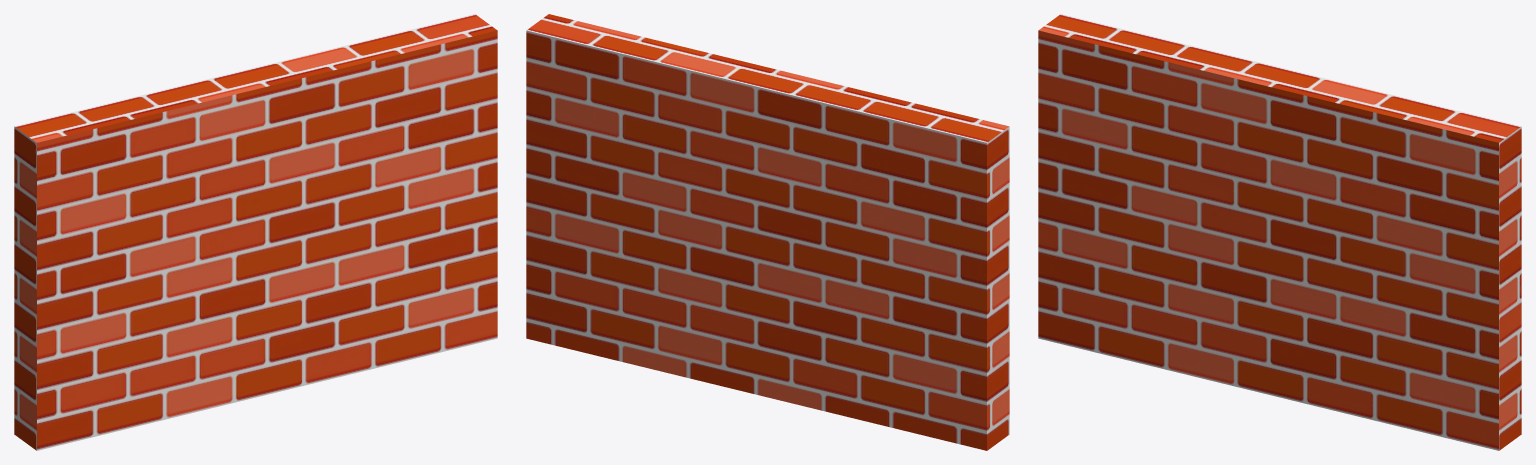
The model's file is Wall_break_model.FBX.
3 views of the same model, side by side, from view 1: azimuth 30°, elevation 25°; view 2: azimuth 150°, elevation 25°; view 3: azimuth 330°, elevation 25° (orthographic).
Parts seen in each view (by area): view 1: Object003, Object009, Object002, Box001, Object012, Object008, Object007, Object006, Object001, Object010, Object013, Object011; view 2: Object003, Object009, Object002, Box001, Object012, Object008, Object007, Object006, Object001, Object010, Object013, Object011; view 3: Object003, Object009, Box001, Object002, Object007, Object012, Object008, Object006, Object001, Object010, Object013, Object011.
Boxes of the visible parts, x1,y1,x2,y2 form: Object003: (14, 56, 324, 373); Object009: (14, 304, 281, 450); Object002: (14, 98, 151, 296); Box001: (382, 184, 497, 366); Object012: (267, 221, 389, 394); Object008: (296, 121, 497, 233); Object007: (360, 14, 497, 183); Object006: (302, 42, 439, 152); Object001: (130, 70, 266, 191); Object010: (166, 268, 288, 314); Object013: (346, 209, 396, 287); Object011: (232, 234, 295, 273); Object003: (699, 56, 1009, 373); Object009: (742, 304, 1009, 450); Object002: (872, 98, 1009, 296); Box001: (526, 184, 641, 366); Object012: (634, 221, 756, 394); Object008: (526, 121, 727, 233); Object007: (526, 14, 663, 183); Object006: (584, 42, 721, 152); Object001: (757, 70, 893, 191); Object010: (735, 268, 857, 314); Object013: (627, 209, 677, 287); Object011: (728, 234, 791, 273); Object003: (1038, 70, 1348, 261); Object009: (1038, 254, 1282, 394); Box001: (1384, 272, 1521, 450); Object002: (1038, 14, 1175, 184); Object007: (1384, 98, 1521, 296); Object012: (1269, 248, 1390, 422); Object008: (1297, 174, 1498, 296); Object006: (1312, 84, 1440, 205); Object001: (1153, 42, 1290, 135); Object010: (1168, 251, 1290, 320); Object013: (1348, 260, 1398, 346); Object011: (1233, 247, 1297, 283).
Size of the model in its own units: 162 by 104 by 13.72.
